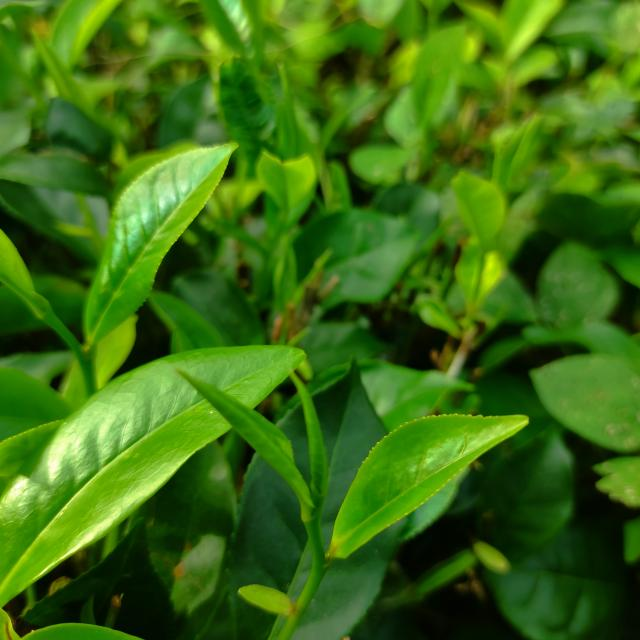unopened_leaf: (274, 360, 332, 515), (276, 53, 304, 170)
